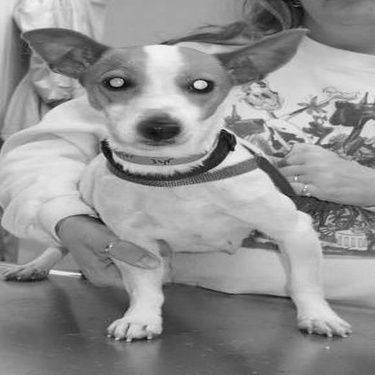dog: (4, 17, 357, 343)
